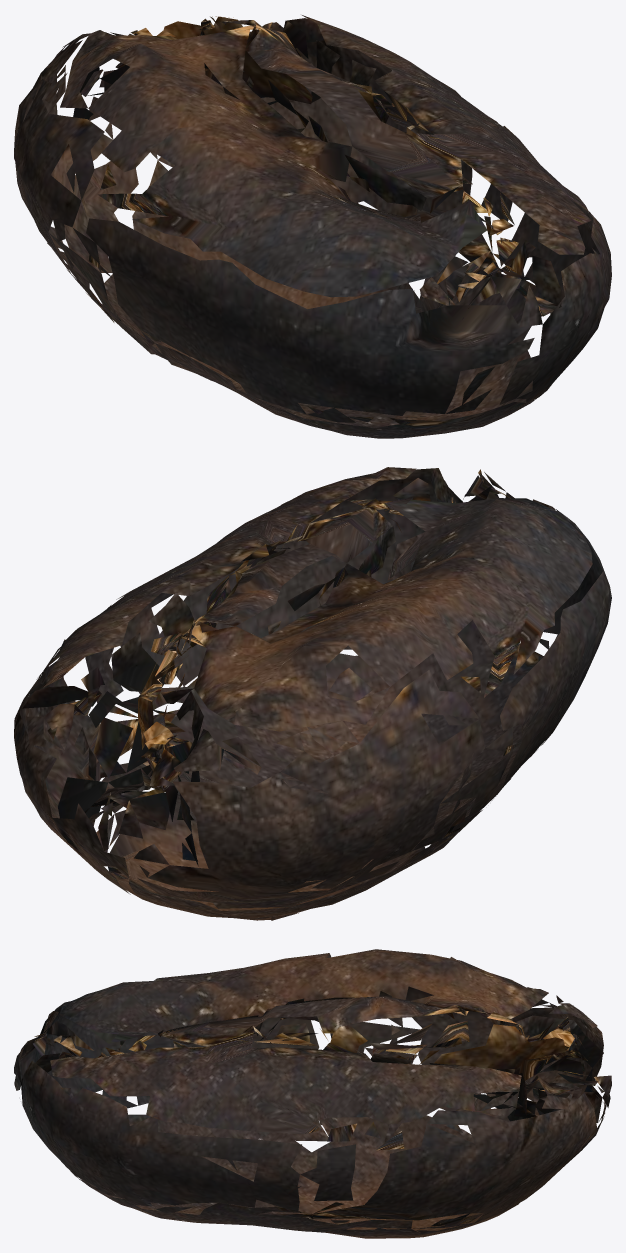
The model's file is coffee-bean-scan.glb.
3 renders of one model, top to bottom at view 1: azimuth 30°, elevation 25°; view 2: azimuth 150°, elevation 25°; view 3: azimuth 270°, elevation 25°, orthographic. The views are drawn at different scales.
Visible parts, largest first — view 1: CoffeeBean; view 2: CoffeeBean; view 3: CoffeeBean.
Boxes of the visible parts, x1,y1,x2,y2 form: CoffeeBean: (14, 15, 611, 438); CoffeeBean: (14, 467, 611, 920); CoffeeBean: (14, 949, 611, 1238).
Size of the model in its own units: 0.075 by 0.052 by 0.122.
Materials: 1 (1 with a texture image).
